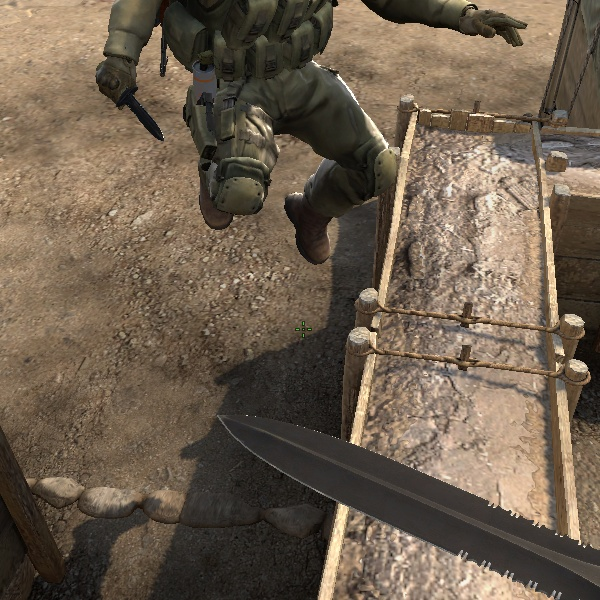ct_body: (114, 1, 404, 249)
